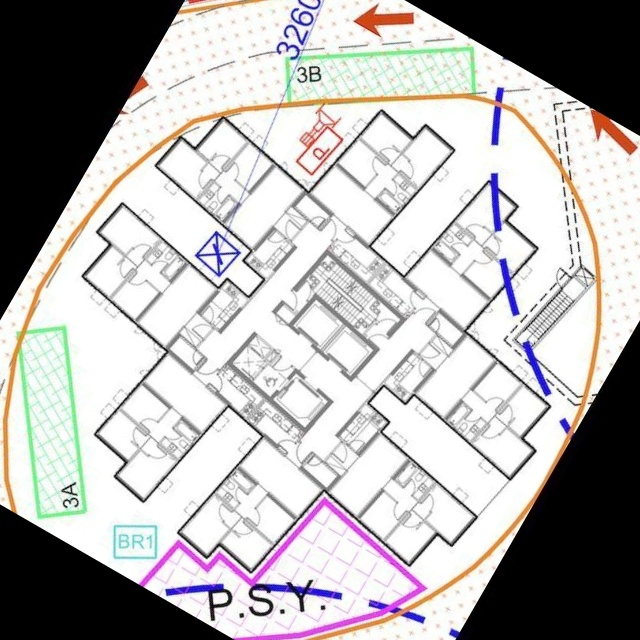tower_crane: (196, 231, 241, 280)
